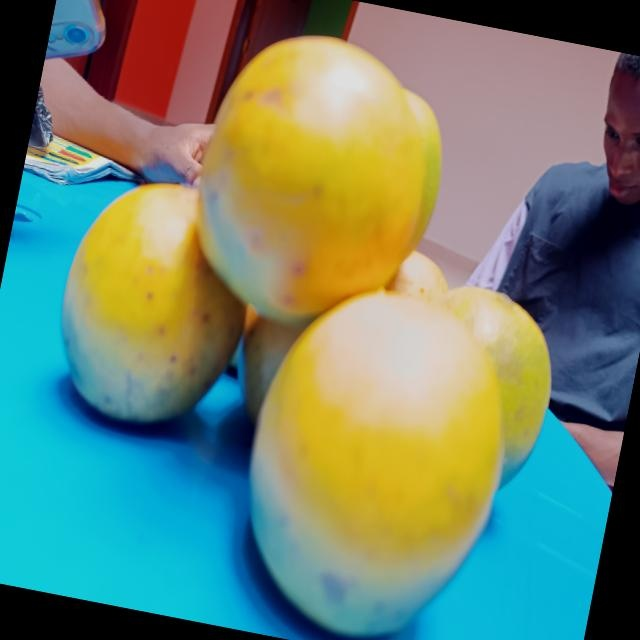agrume: (215, 277, 530, 640), (178, 12, 458, 340), (41, 161, 263, 436), (376, 273, 582, 490)
